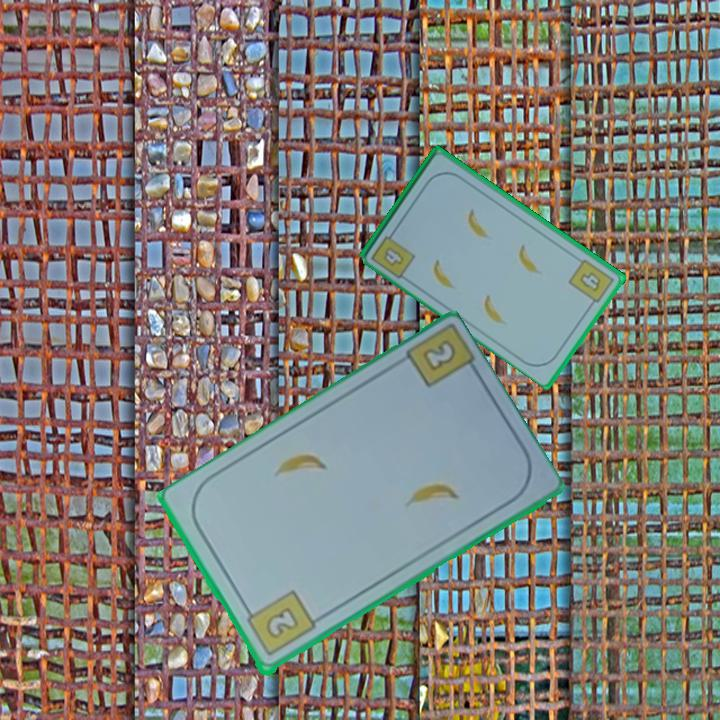2b: (241, 587, 318, 660), (418, 336, 459, 375)
4b: (565, 255, 617, 310), (367, 225, 418, 281)
